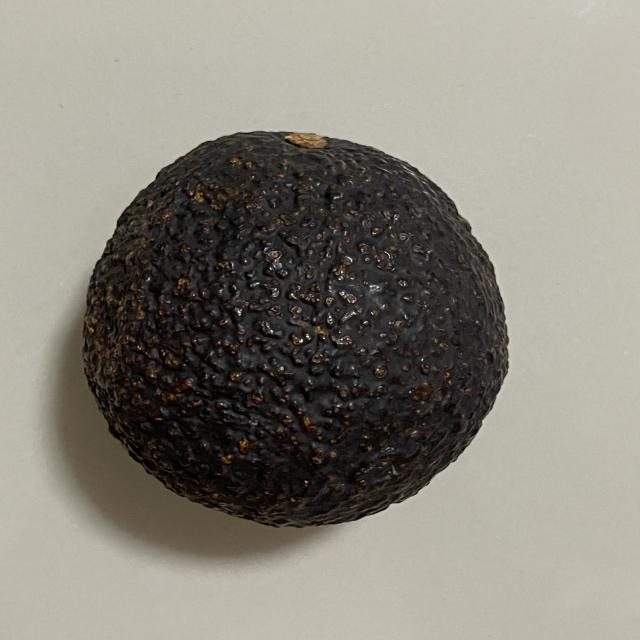Level3: (72, 122, 522, 534)
